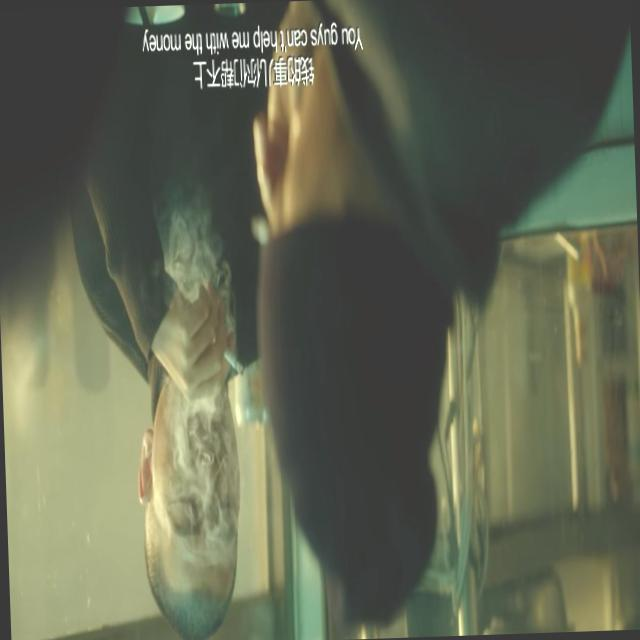smoke: (207, 328, 246, 385)
